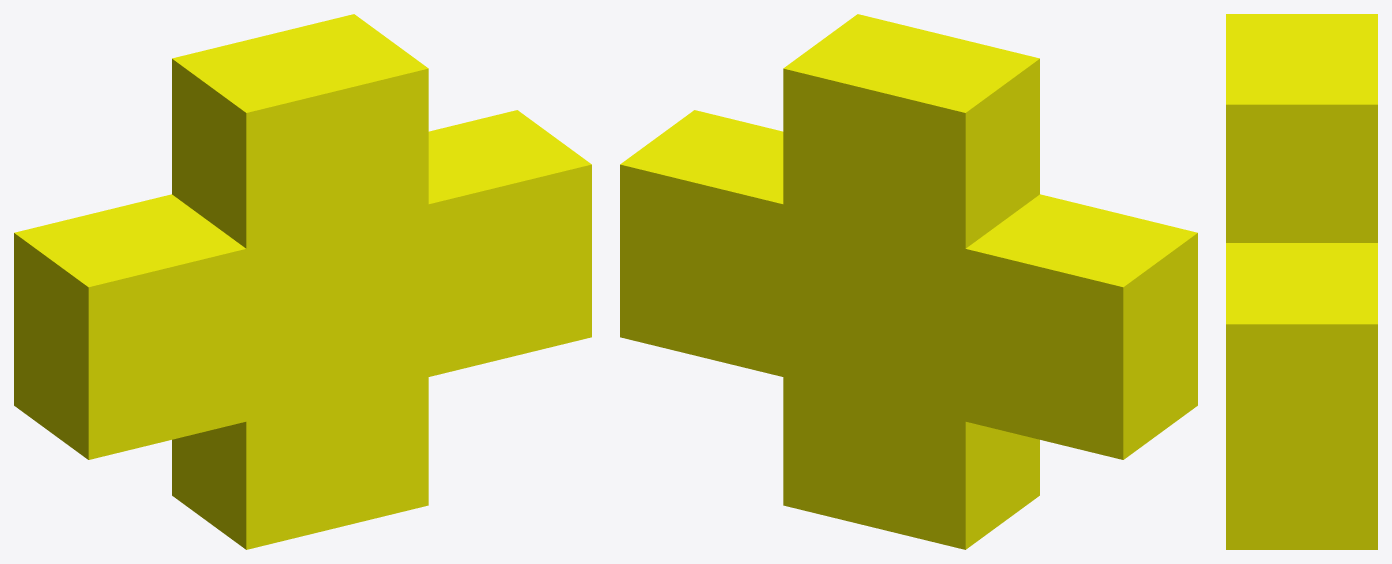
Rendered from super_health_pack.dae.
3 renders of one model, left to right at view 1: azimuth 30°, elevation 25°; view 2: azimuth 150°, elevation 25°; view 3: azimuth 270°, elevation 25°, orthographic.
Visible parts, largest first — view 1: Cube; view 2: Cube; view 3: Cube.
Part boxes in pixels (x1,y1,x2,y2): Cube: [14, 14, 591, 549]; Cube: [620, 14, 1197, 549]; Cube: [1226, 14, 1377, 549].
Size of the model in its own units: 0.6169 by 0.1582 by 0.5116.
